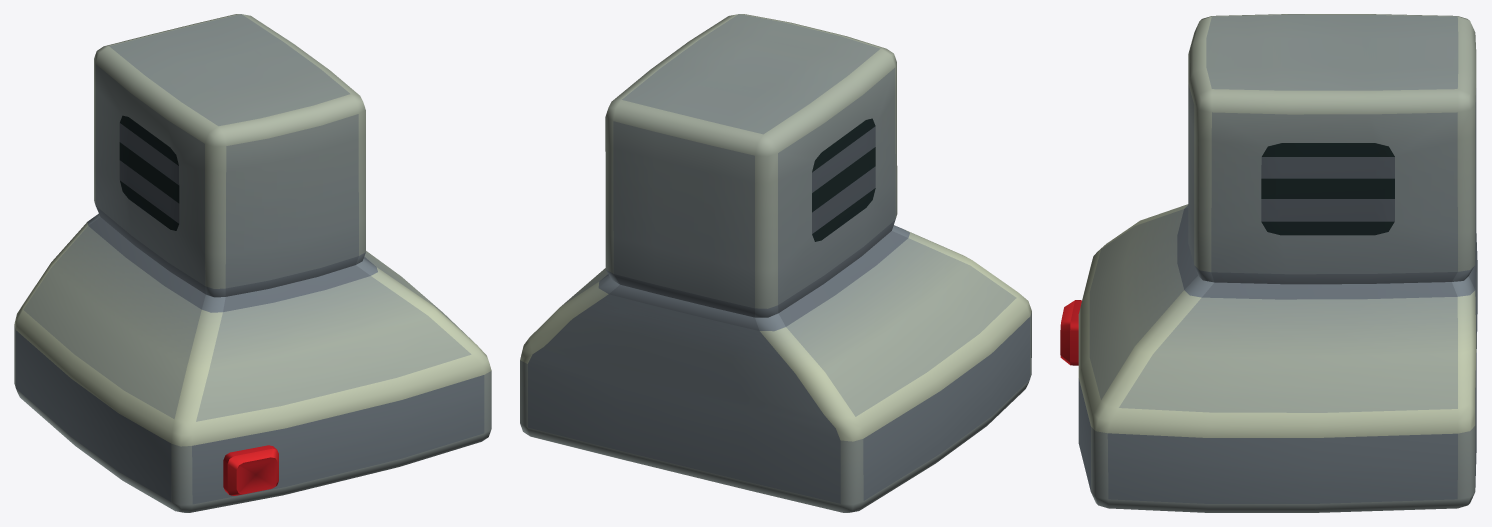
File: kitchen_exhaust_LOD_setup.fbx
3 renders of one model, left to right at view 1: azimuth 30°, elevation 25°; view 2: azimuth 150°, elevation 25°; view 3: azimuth 270°, elevation 25°, orthographic. The views are drawn at different scales.
Visible parts, largest first — view 1: kitchen_exhaust_LOD0; view 2: kitchen_exhaust_LOD0; view 3: kitchen_exhaust_LOD0.
Boxes of the visible parts, x1,y1,x2,y2 form: kitchen_exhaust_LOD0: [14, 14, 491, 512]; kitchen_exhaust_LOD0: [520, 14, 1031, 512]; kitchen_exhaust_LOD0: [1060, 14, 1477, 512].
Size of what is drawn, in the model's own units: 105 by 100 by 101.
